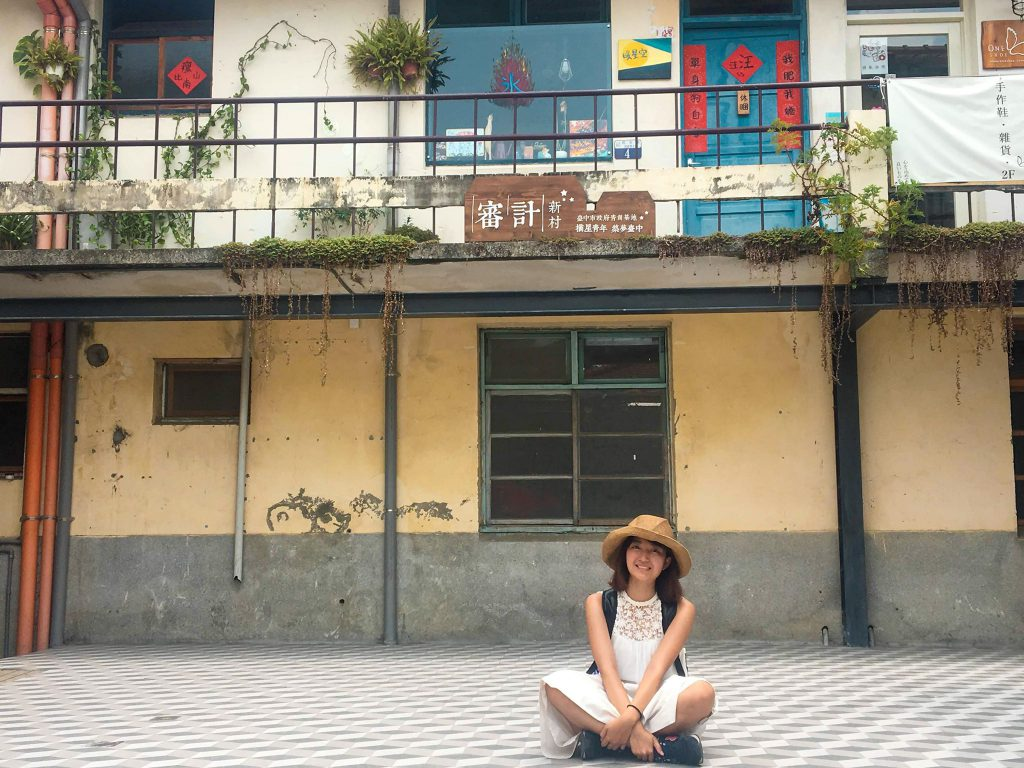people: (548, 514, 719, 765)
